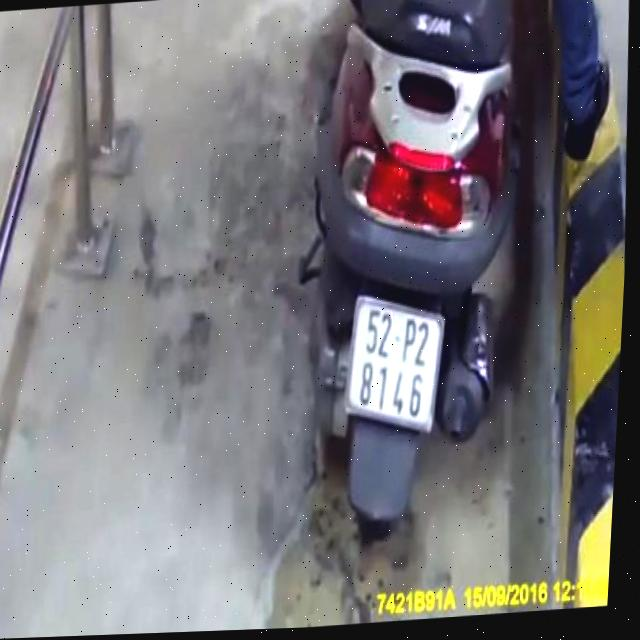motorcycle: (279, 0, 543, 571)
plate: (331, 280, 455, 443)
